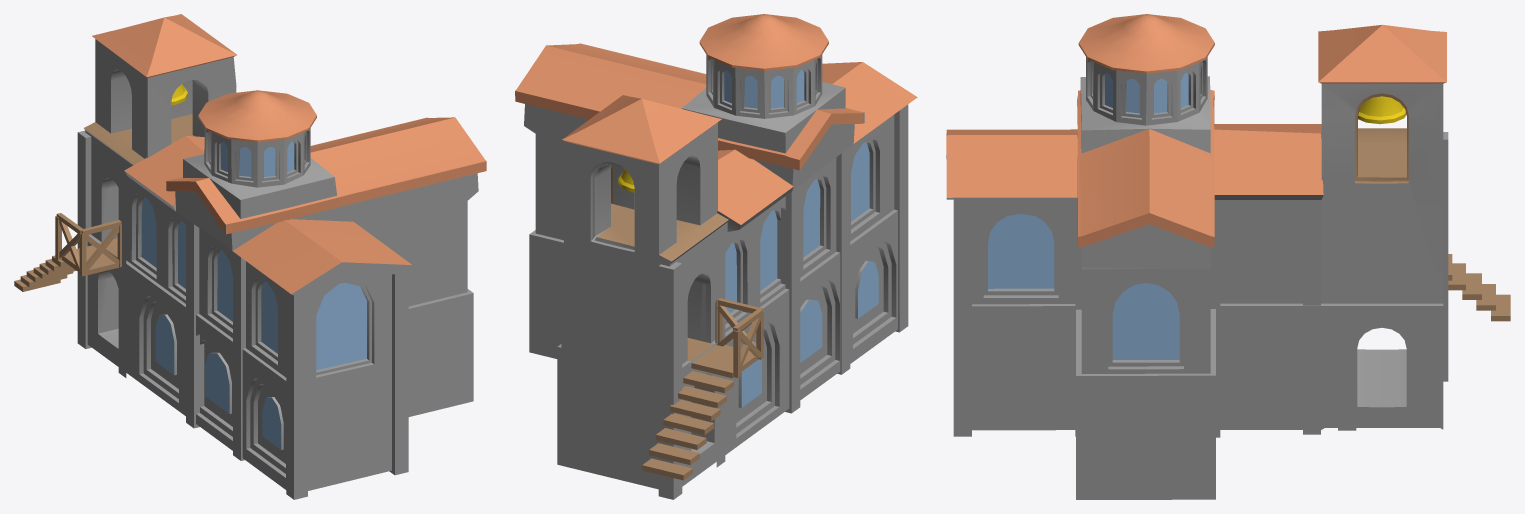
The model's file is ChurchOfDestenyMoni.fbx.
The picture shows the model from 3 angles, left to right: view 1: azimuth 30°, elevation 25°; view 2: azimuth 150°, elevation 25°; view 3: azimuth 270°, elevation 25°; orthographic projection. The views are drawn at different scales.
Visible parts, largest first — view 1: Cube.005; view 2: Cube.005; view 3: Cube.005.
Part boxes in pixels (left/top/right/bottom): Cube.005: left=14, top=14, right=486, bottom=499; Cube.005: left=515, top=14, right=917, bottom=499; Cube.005: left=946, top=14, right=1510, bottom=499.
Size of the model in its own units: 627 by 698 by 928.
